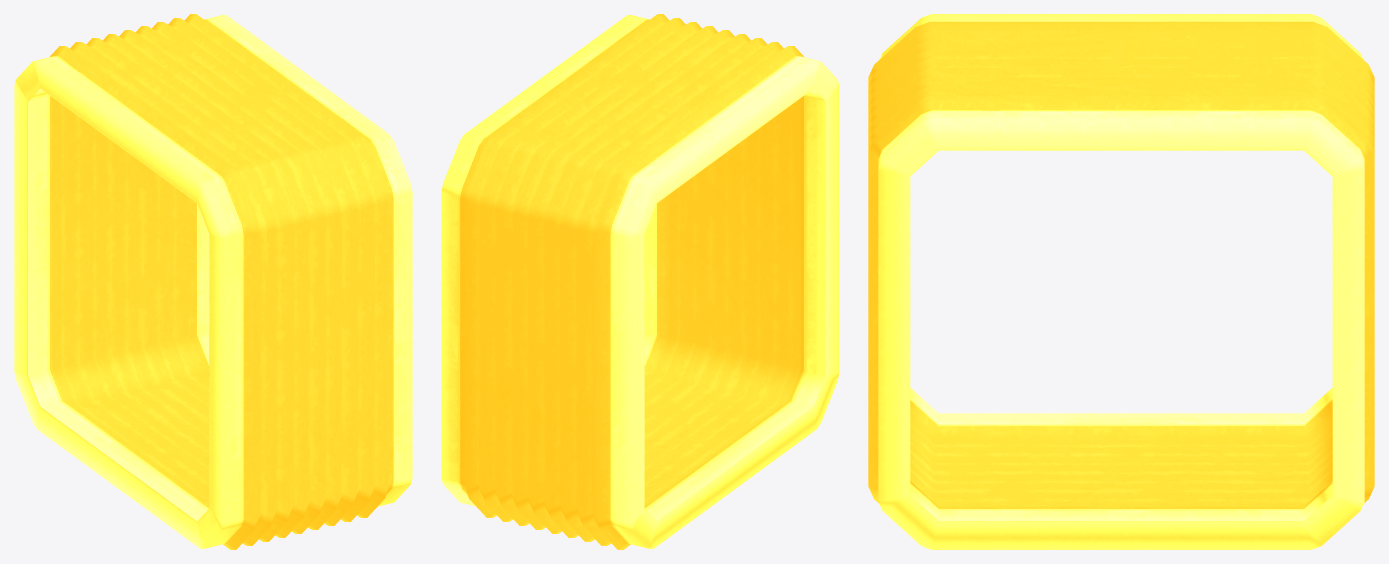
Rendered from lift-connector.glb.
3 views of the same model, side by side, from view 1: azimuth 30°, elevation 25°; view 2: azimuth 150°, elevation 25°; view 3: azimuth 270°, elevation 25° (orthographic). The views are drawn at different scales.
Visible parts, largest first — view 1: ConveyorLift_Connector; view 2: ConveyorLift_Connector; view 3: ConveyorLift_Connector.
Part boxes in pixels (x1,y1,x2,y2): ConveyorLift_Connector: (14,14,412,549); ConveyorLift_Connector: (441,14,839,549); ConveyorLift_Connector: (868,14,1374,549).
Bounding box in the file's own units: 1 × 1.93 × 1.99.
1 material, 1 textured.
